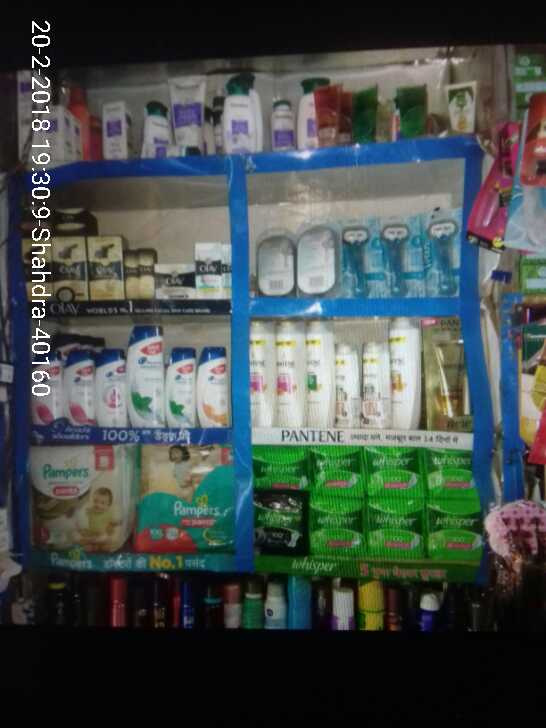venus: (294, 218, 342, 297), (422, 208, 464, 294), (381, 215, 422, 294), (344, 215, 381, 298), (254, 224, 294, 294)
